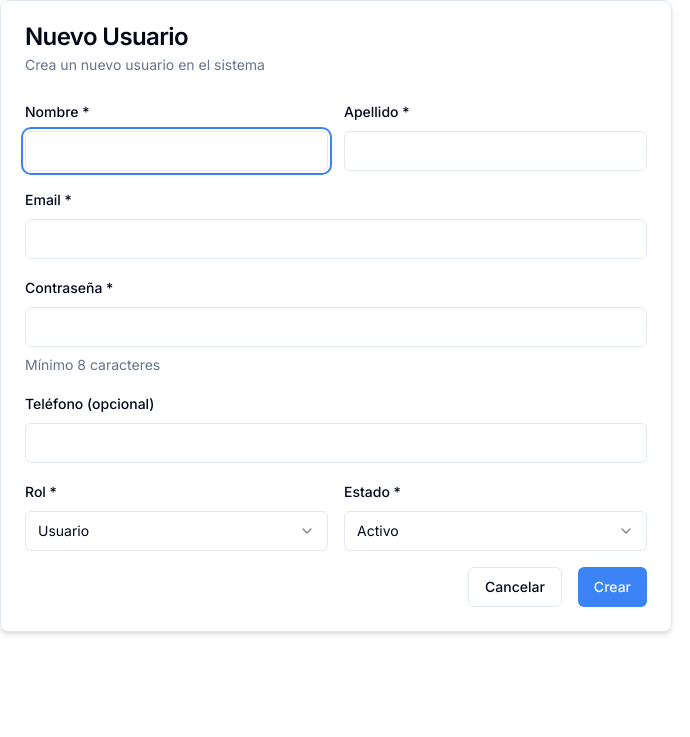
Scenario: UserForm › should show validation errors
Click the button "Crear" at (612, 587), box left=578, top=567, right=647, bottom=607
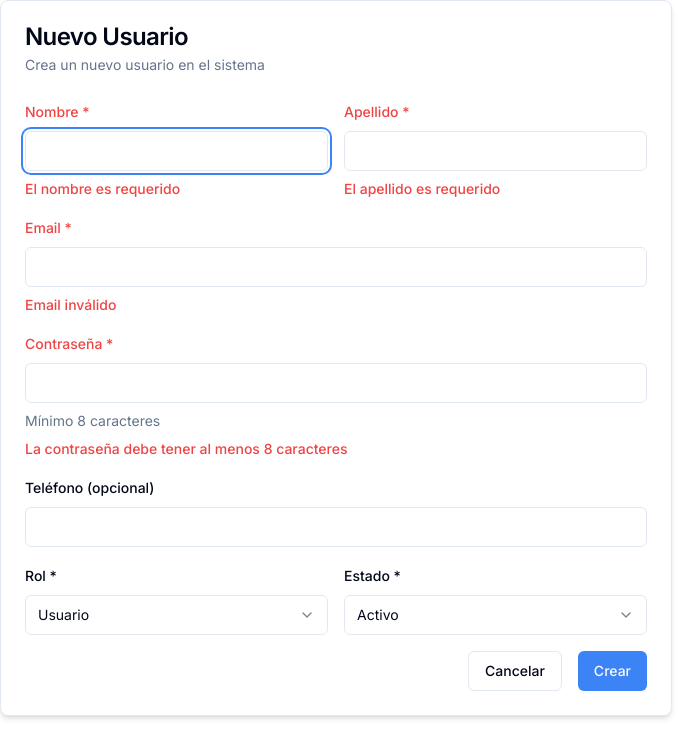
Now the text "El nombre es requerido" is shown, box left=25, top=180, right=180, bottom=197
